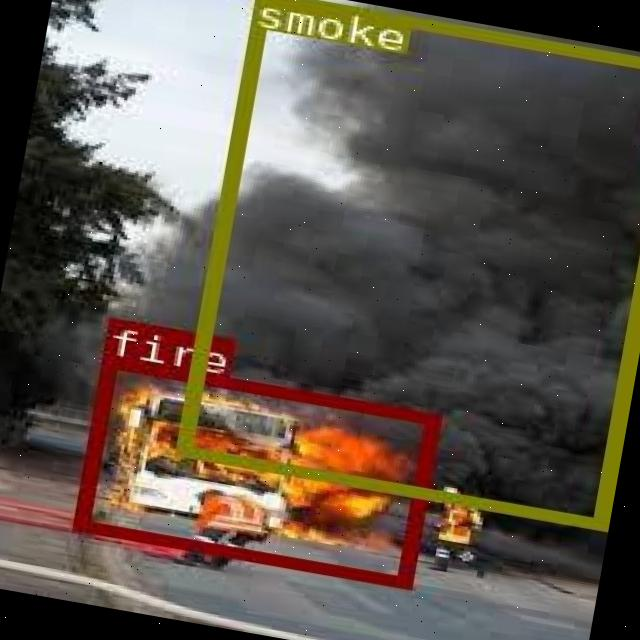fire: (70, 352, 438, 586)
smoke: (173, 0, 640, 526)
